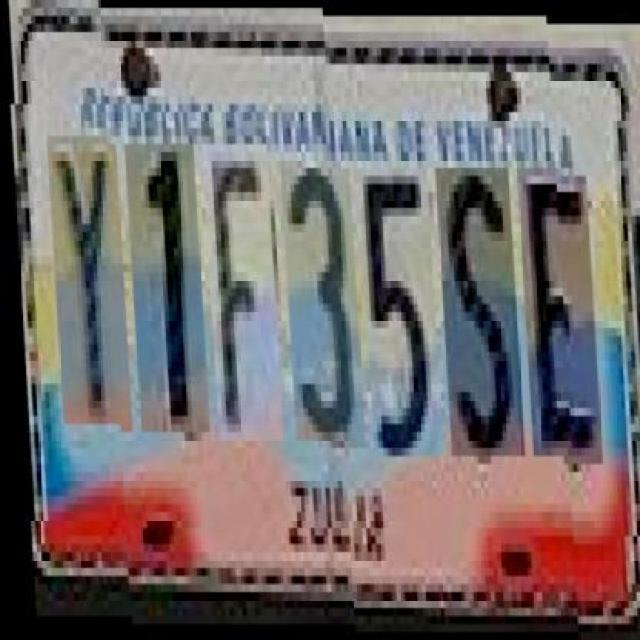1: (122, 144, 205, 431)
3: (278, 160, 360, 440)
5: (354, 160, 438, 448)
e: (514, 160, 597, 448)
f: (200, 144, 278, 441)
s: (432, 160, 518, 448)
y: (44, 144, 128, 431)
